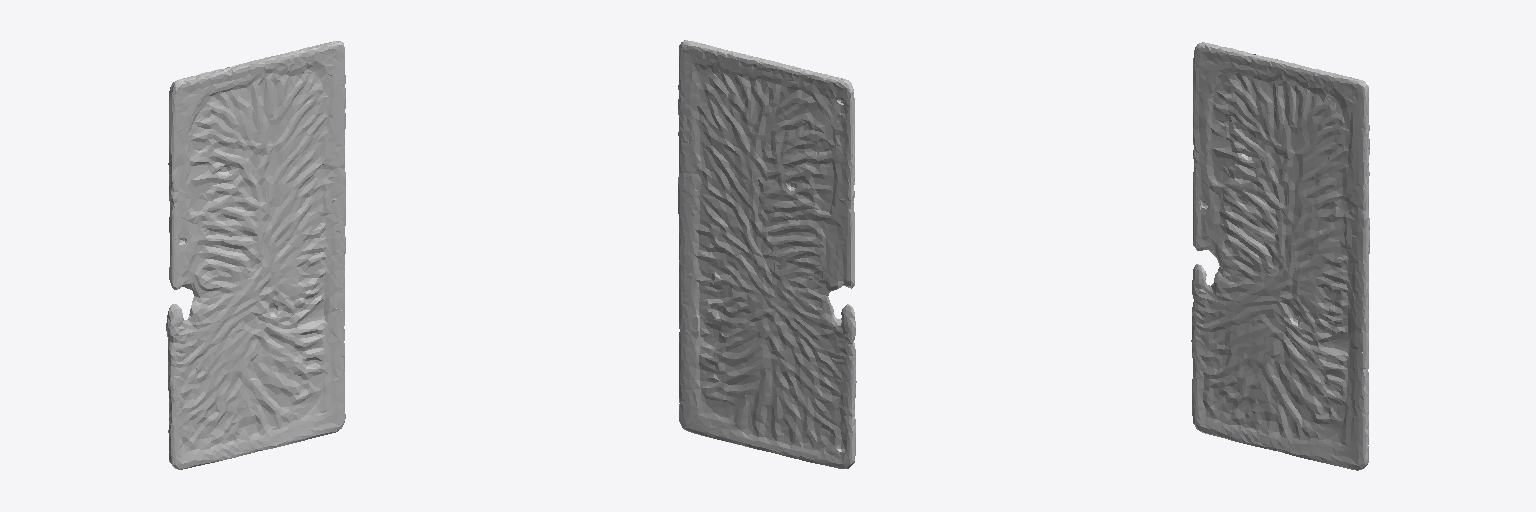
Rendered from EvilDoor0.2.obj.
3 renders of one model, left to right at view 1: azimuth 30°, elevation 25°; view 2: azimuth 150°, elevation 25°; view 3: azimuth 330°, elevation 25°, orthographic.
Parts seen in each view (by area): view 1: geometry_0; view 2: geometry_0; view 3: geometry_0.
Part boxes in pixels (x1,y1,x2,y2): geometry_0: (166,41,345,469); geometry_0: (678,40,856,468); geometry_0: (1191,42,1369,470).
Bounding box in the file's own units: 0.9984 × 2.1 × 0.0548.